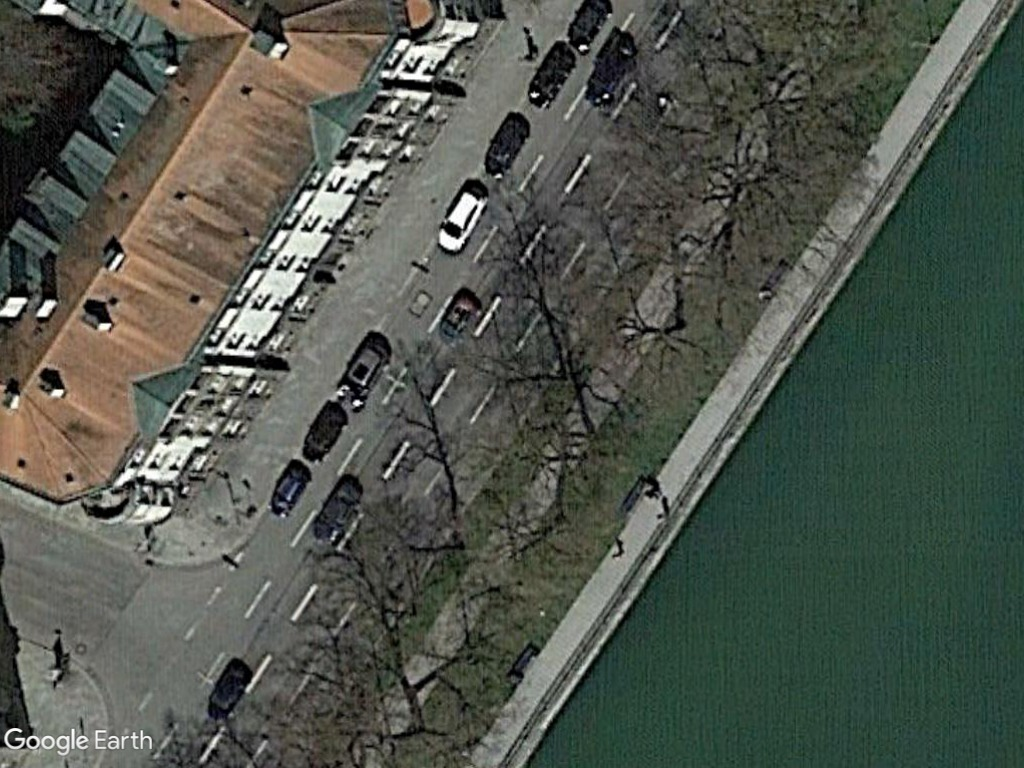car: (434, 176, 493, 258), (261, 459, 312, 520)
